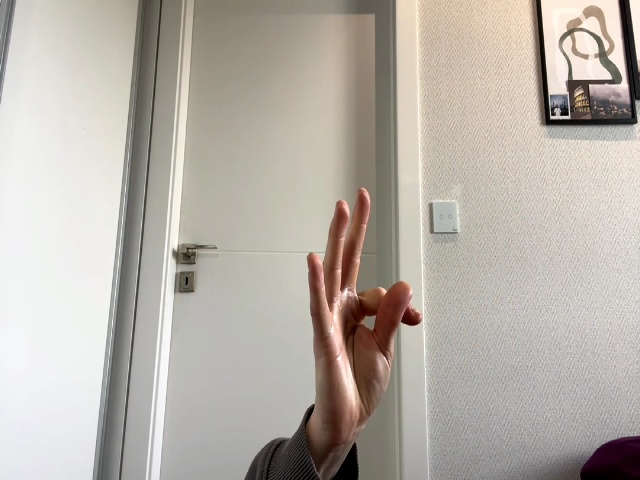T: (307, 188, 423, 430)
